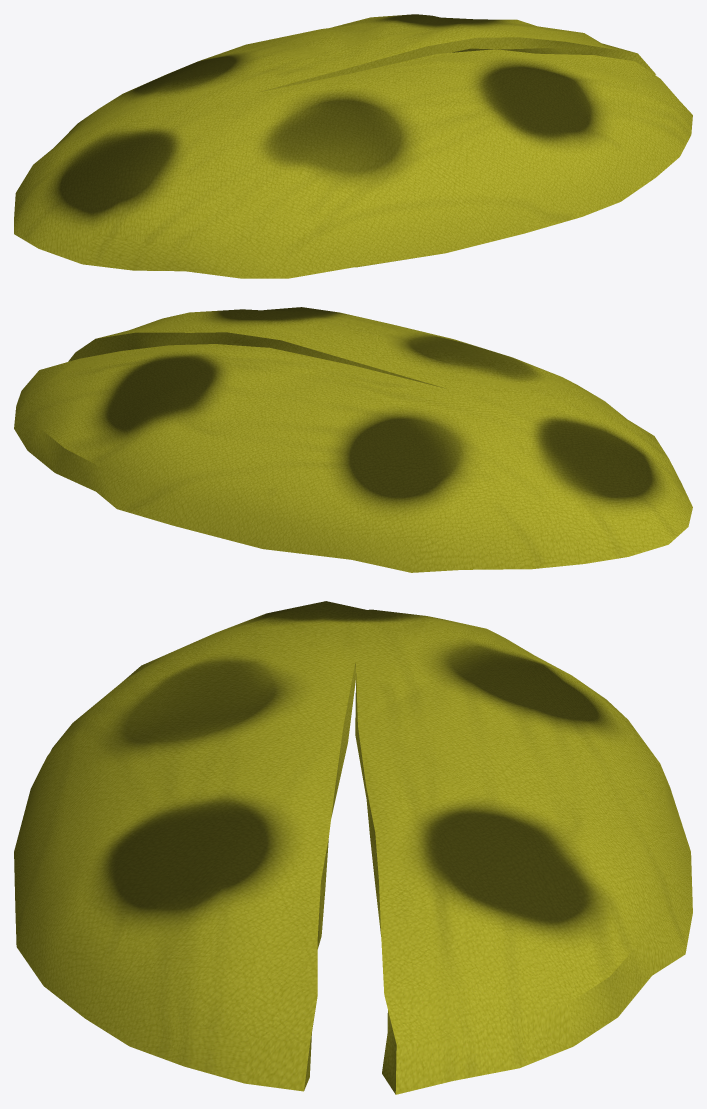
The model's file is krulia zhuka.fbx.
3 renders of one model, top to bottom at view 1: azimuth 30°, elevation 25°; view 2: azimuth 150°, elevation 25°; view 3: azimuth 270°, elevation 25°, orthographic. The views are drawn at different scales.
Visible parts, largest first — view 1: zhuk; view 2: zhuk; view 3: zhuk.
Boxes of the visible parts, x1,y1,x2,y2 form: zhuk: (14, 14, 692, 278); zhuk: (14, 307, 692, 572); zhuk: (14, 601, 692, 1094).
Bounding box in the file's own units: 321 × 47.9 × 199.
